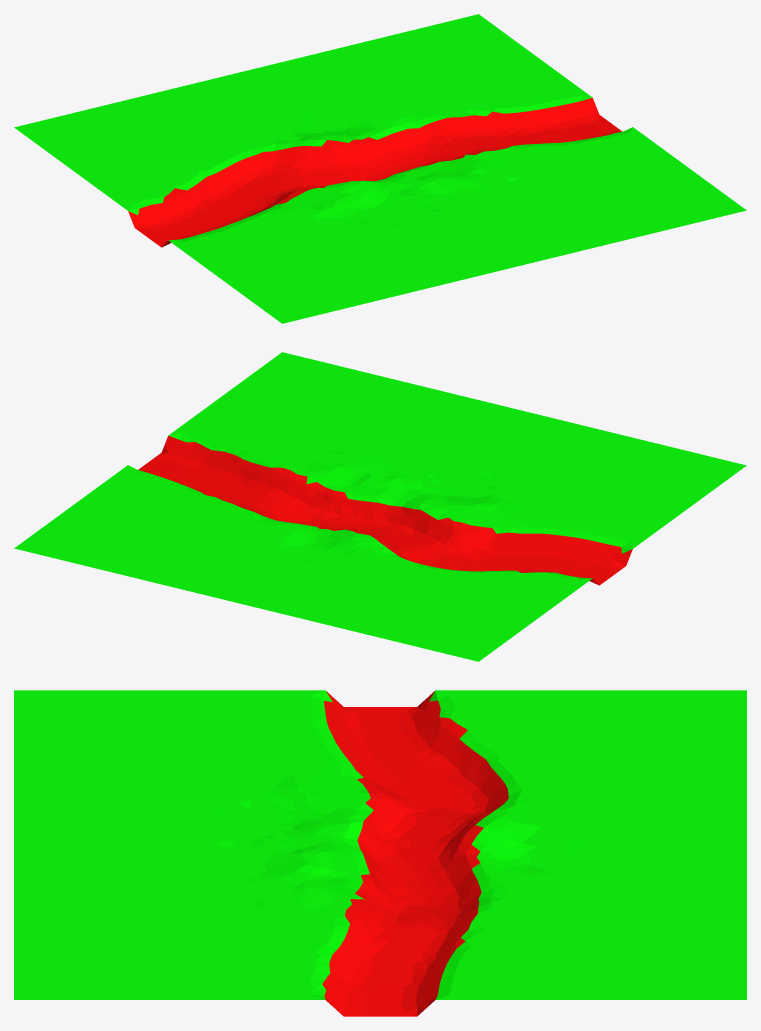
Rendered from River04.fbx.
3 renders of one model, top to bottom at view 1: azimuth 30°, elevation 25°; view 2: azimuth 150°, elevation 25°; view 3: azimuth 270°, elevation 25°, orthographic. The views are drawn at different scales.
Parts seen in each view (by area): view 1: River04; view 2: River04; view 3: River04.
Part boxes in pixels (bbox=[...]): River04: bbox=[14, 14, 746, 323]; River04: bbox=[14, 352, 746, 661]; River04: bbox=[14, 690, 746, 1016].
Size of the model in its own units: 5009 by 227 by 5009.
